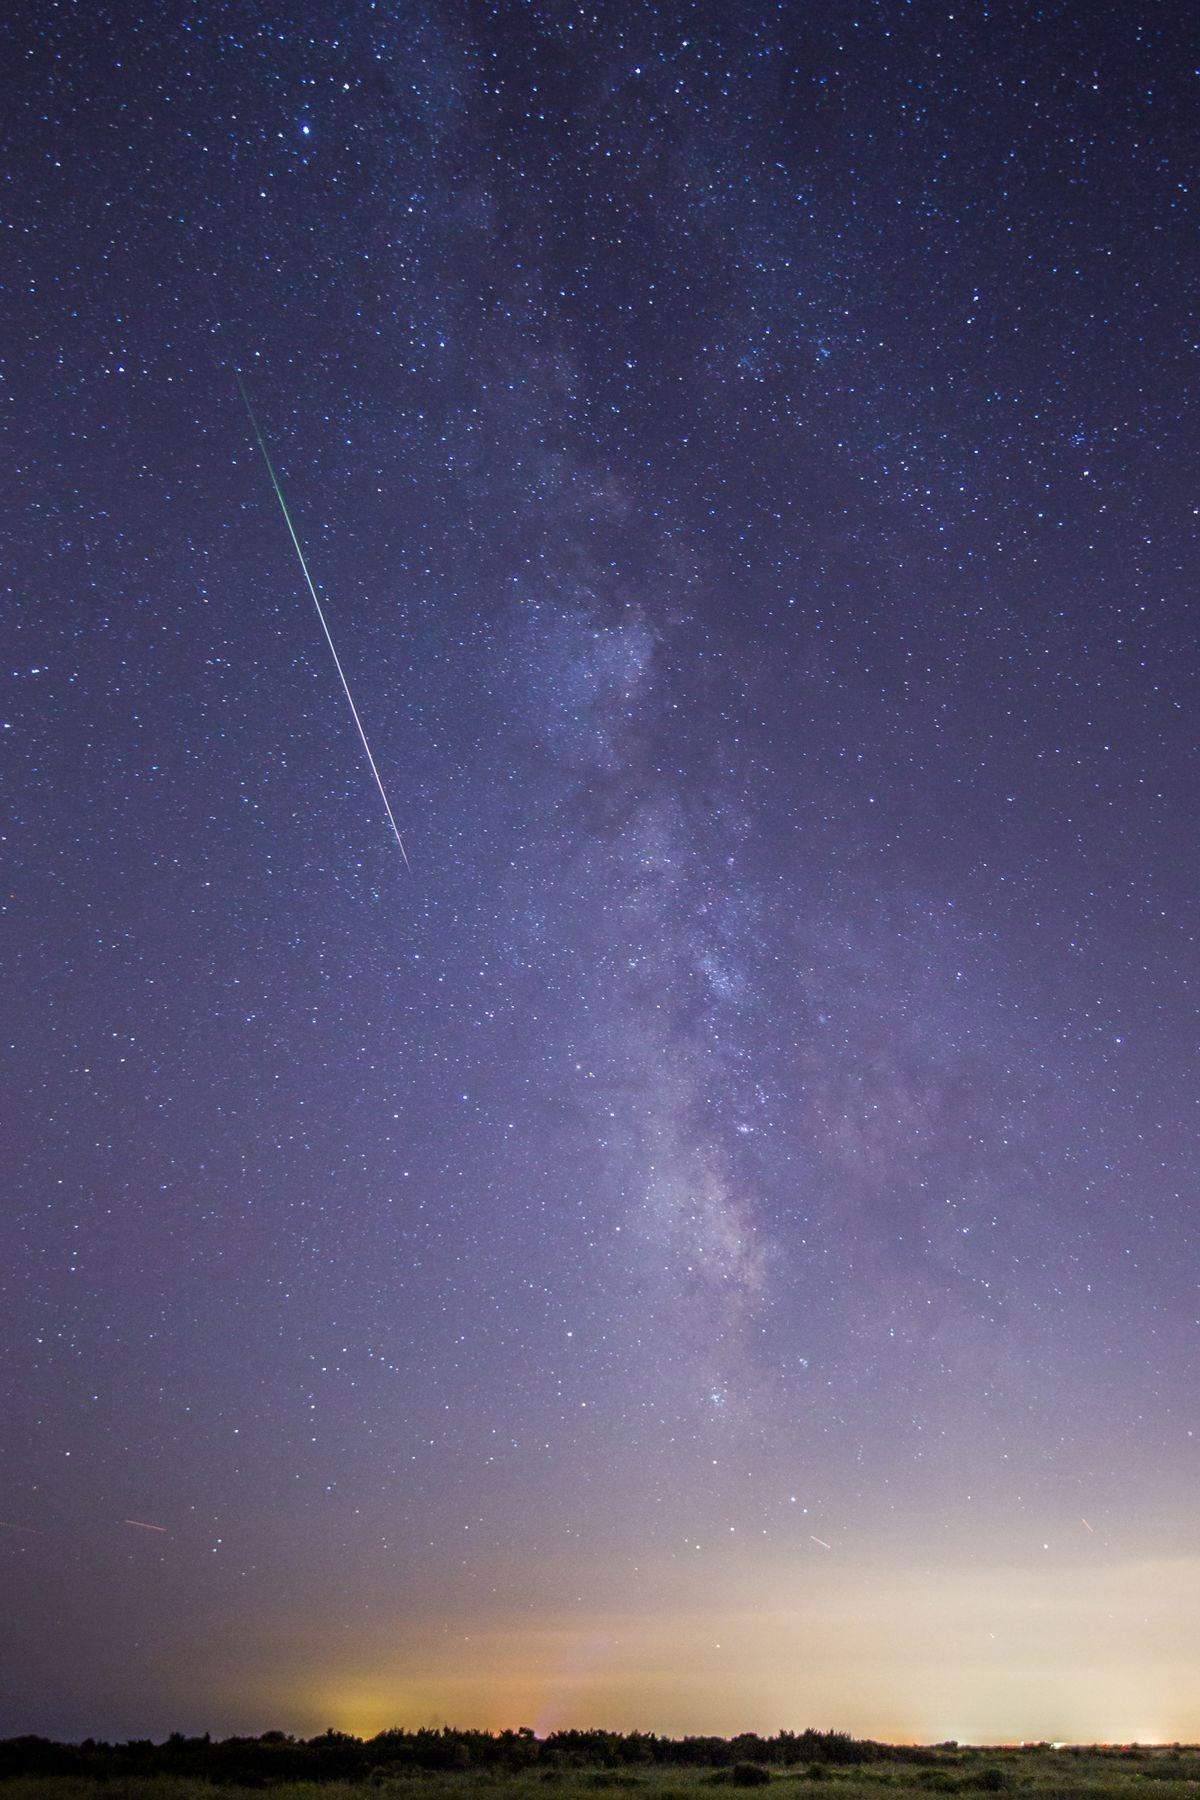meteorite: (242, 376, 423, 876), (115, 1507, 175, 1546)
